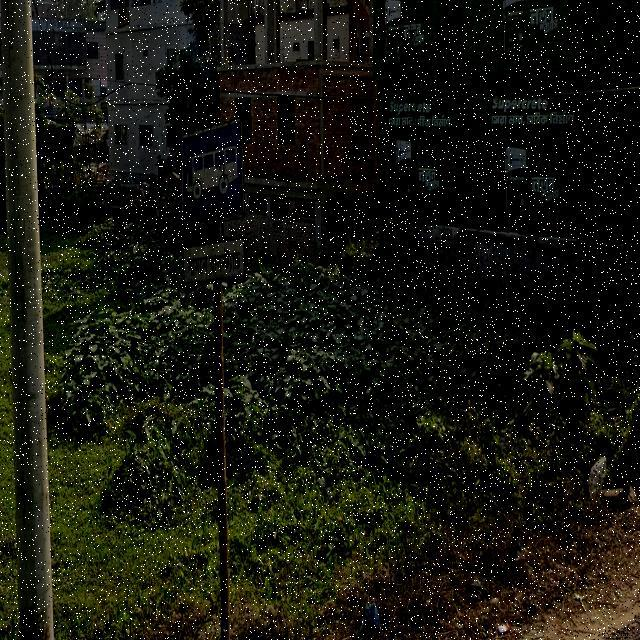Ahead-the-bus-station: (132, 87, 301, 331)
